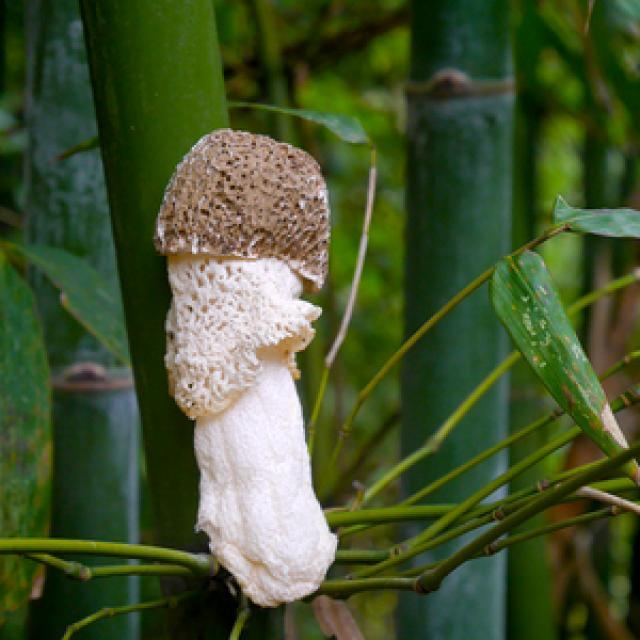Dictyophora indusiate: (159, 128, 343, 606)
